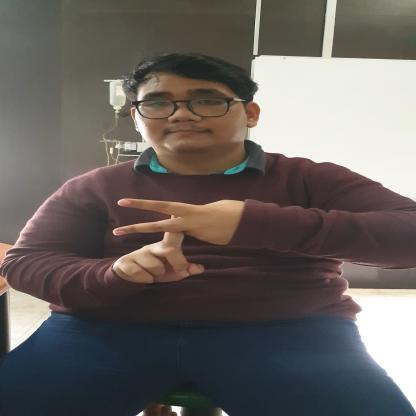F: (109, 197, 231, 285)
